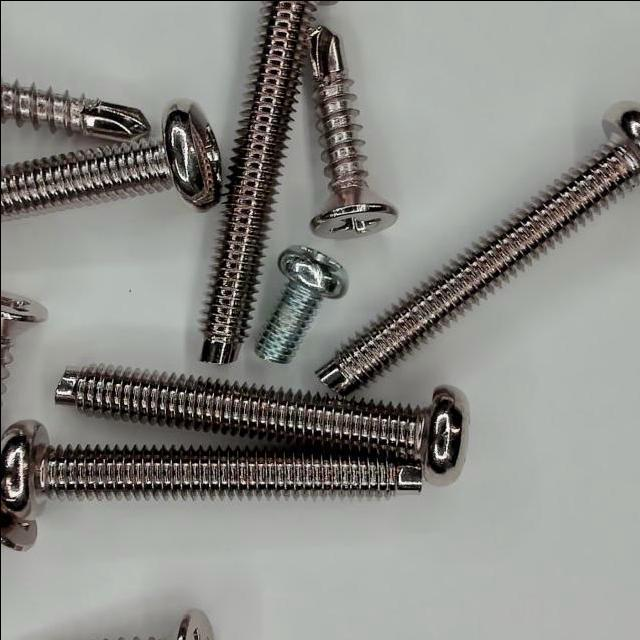Screw: (317, 102, 640, 396), (55, 365, 469, 484), (0, 421, 424, 524), (202, 0, 315, 364), (1, 109, 221, 216), (310, 25, 397, 237), (256, 246, 349, 364), (1, 80, 149, 140), (0, 293, 47, 394)
